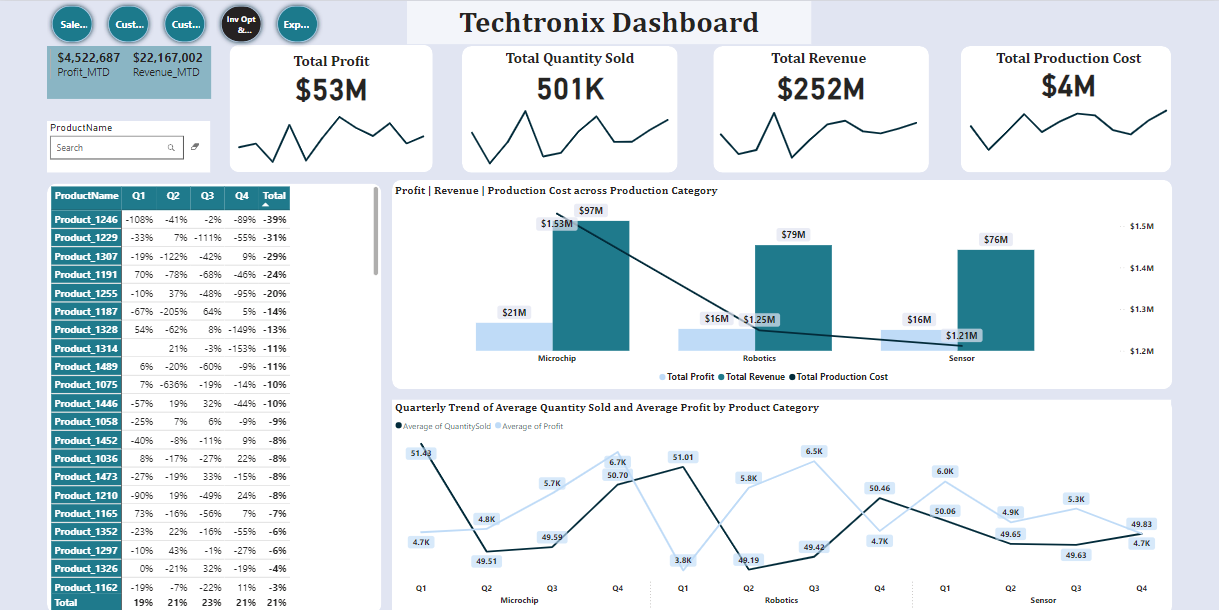

The page's visual inventory and layout, read from the dashboard file:
{"tool":"powerbi","page":{"name":"Inv Opt & Profitability","canvas":[2000,1000],"ordinal":3},"visuals":[{"type":"shape","box":[380,72,332,208],"z":0},{"type":"shape","box":[760.1,73.8,352.3,206.8],"z":1000},{"type":"shape","box":[1168.5,73.8,352.3,206.8],"z":2000},{"type":"shape","box":[1573.9,73.9,343.5,206.5],"z":3000},{"type":"card","fields":{"Values":["Measures (2).Total Profit"]},"box":[380,95,332.5,85],"z":4000},{"type":"lineChart","fields":{"Category":["Calendar_Dim.Month_Name"],"Y":["Sum(Techtonix Facts Table.Profit)"]},"box":[380,160,332.5,117.5],"z":5000},{"type":"textbox","box":[380,77.5,332.5,42.5],"z":6000},{"type":"card","fields":{"Values":["Measures (2).Total Quantity Sold"]},"box":[760.1,94.3,352.3,86.4],"z":7000},{"type":"textbox","box":[760.1,73.8,352.3,40.9],"z":8000},{"type":"lineChart","fields":{"Category":["Calendar_Dim.Month_Name"],"Y":["Sum(Techtonix Facts Table.QuantitySold)"]},"box":[760.1,155.7,352.3,118.2],"z":9000},{"type":"card","fields":{"Values":["Measures (2).Total Revenue"]},"box":[1168.5,94.3,352.3,86.4],"z":10000},{"type":"lineChart","fields":{"Category":["Calendar_Dim.Month_Name"],"Y":["Sum(Techtonix Facts Table.TotalSaleAmount)"]},"box":[1166.2,155.7,352.3,118.2],"z":11000},{"type":"textbox","box":[1166.2,73.8,352.3,40.9],"z":12000},{"type":"card","fields":{"Values":["Measures (2).Total Production Cost"]},"box":[1573,89.8,352.3,86.4],"z":13000},{"type":"lineChart","fields":{"Category":["Calendar_Dim.Month_Name"],"Y":["Sum(Techtonix Facts Table.ProductionCost)"]},"box":[1573,155.7,352.3,118.2],"z":14000},{"type":"textbox","box":[1573,73.8,352.3,40.9],"z":15000},{"type":"textbox","box":[670,0,660,70],"z":16000},{"type":"pageNavigator","box":[82.5,0,450,75],"z":17000},{"type":"shape","box":[644,292,1274,342],"z":19000},{"type":"lineClusteredColumnComboChart","title":"Profit | Revenue | Production Cost across Production Category ","fields":{"Category":["Product_Dim.ProductCategory"],"Y":["Measures (2).Total Profit","Measures (2).Total Revenue"],"Y2":["Measures (2).Total Production Cost"]},"box":[644,298,1250,336],"z":20000},{"type":"multiRowCard","fields":{"Values":["Measures (2).Profit_MTD","Measures (2).Revenue_MTD"]},"box":[82,74,268,86],"z":21000},{"type":"textFilter25A4896A83E0487089E2B90C9AE57C8A","fields":{"field":["Product_Dim.ProductName"]},"box":[82,196,266,84],"z":22000},{"type":"shape","box":[82,298,546,702],"z":23000},{"type":"pivotTable","title":"No of Customers By Customer Sector","fields":{"Values":["Measures (2).Profit Margin"],"Columns":["Calendar_Dim.Quarter"],"Rows":["Product_Dim.ProductName"]},"box":[84,298,544,702],"z":24000},{"type":"shape","box":[644,650,1274,350],"z":26000},{"type":"lineChart","title":"Quarterly Trend of Average Quantity Sold and Average Profit by Product Category","fields":{"Category":["Product_Dim.ProductCategory","Calendar_Dim.Quarter"],"Y":["Avg(Techtonix Facts Table.QuantitySold)"],"Y2":["Avg(Techtonix Facts Table.Profit)"]},"box":[644,650,1272,350],"z":27000}]}

Visuals, with their boxes in screenshot pixels (x1, y1, x2, y2), scaled from the page's 2000x1000 canvas onto the 1219x610 screenshot:
shape: <bbox>232, 44, 434, 171</bbox>
shape: <bbox>463, 45, 678, 171</bbox>
shape: <bbox>712, 45, 927, 171</bbox>
shape: <bbox>959, 45, 1169, 171</bbox>
card - Measures (2).Total Profit: <bbox>232, 58, 434, 110</bbox>
lineChart - Calendar_Dim.Month_Name x Sum(Techtonix Facts Table.Profit): <bbox>232, 98, 434, 169</bbox>
textbox: <bbox>232, 47, 434, 73</bbox>
card - Measures (2).Total Quantity Sold: <bbox>463, 58, 678, 110</bbox>
textbox: <bbox>463, 45, 678, 70</bbox>
lineChart - Calendar_Dim.Month_Name x Sum(Techtonix Facts Table.QuantitySold): <bbox>463, 95, 678, 167</bbox>
card - Measures (2).Total Revenue: <bbox>712, 58, 927, 110</bbox>
lineChart - Calendar_Dim.Month_Name x Sum(Techtonix Facts Table.TotalSaleAmount): <bbox>711, 95, 926, 167</bbox>
textbox: <bbox>711, 45, 926, 70</bbox>
card - Measures (2).Total Production Cost: <bbox>959, 55, 1173, 107</bbox>
lineChart - Calendar_Dim.Month_Name x Sum(Techtonix Facts Table.ProductionCost): <bbox>959, 95, 1173, 167</bbox>
textbox: <bbox>959, 45, 1173, 70</bbox>
textbox: <bbox>408, 0, 811, 43</bbox>
pageNavigator: <bbox>50, 0, 325, 46</bbox>
shape: <bbox>393, 178, 1169, 387</bbox>
"Profit | Revenue | Production Cost across Production Category " lineClusteredColumnComboChart: <bbox>393, 182, 1154, 387</bbox>
multiRowCard - Measures (2).Profit_MTD x Measures (2).Revenue_MTD: <bbox>50, 45, 213, 98</bbox>
textFilter25A4896A83E0487089E2B90C9AE57C8A - Product_Dim.ProductName: <bbox>50, 120, 212, 171</bbox>
shape: <bbox>50, 182, 383, 609</bbox>
"No of Customers By Customer Sector" pivotTable: <bbox>51, 182, 383, 609</bbox>
shape: <bbox>393, 396, 1169, 609</bbox>
"Quarterly Trend of Average Quantity Sold and Average Profit by Product Category" lineChart: <bbox>393, 396, 1168, 609</bbox>
